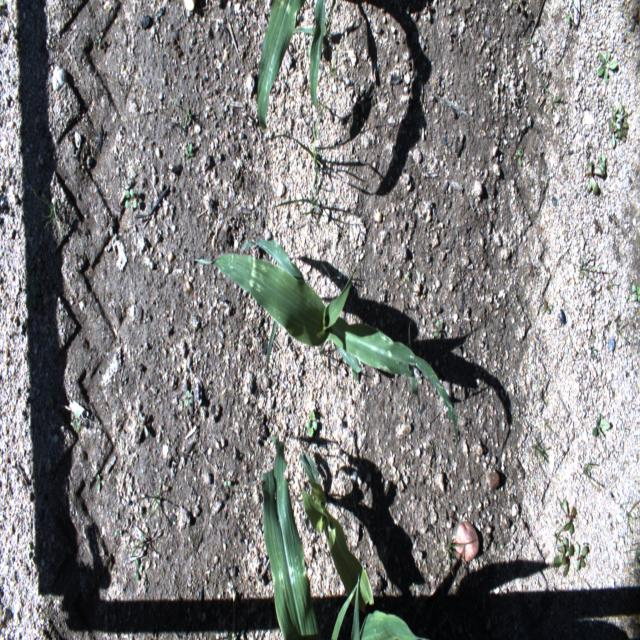crop: (194, 238, 459, 456), (260, 434, 322, 639), (298, 457, 373, 605), (256, 0, 305, 133), (331, 578, 428, 638), (300, 0, 330, 110)
weed: (274, 98, 327, 190), (31, 185, 70, 238), (276, 193, 352, 218), (440, 530, 468, 582), (137, 474, 164, 524), (536, 71, 562, 122), (323, 36, 344, 84), (552, 532, 574, 577), (596, 50, 617, 85), (172, 98, 192, 132), (584, 461, 606, 491), (622, 500, 636, 542), (563, 495, 577, 536), (578, 251, 598, 278), (586, 164, 603, 195), (533, 429, 547, 466), (592, 412, 610, 440), (616, 312, 630, 346), (133, 525, 150, 552), (322, 263, 344, 282), (306, 408, 319, 440), (606, 276, 621, 300), (575, 542, 587, 570), (617, 104, 630, 128), (124, 187, 138, 209), (134, 554, 145, 582), (72, 412, 86, 432), (95, 472, 107, 492), (184, 143, 195, 164), (630, 282, 640, 304), (608, 123, 616, 150), (184, 389, 194, 409), (597, 152, 607, 172), (95, 32, 103, 52), (516, 146, 523, 168), (433, 318, 440, 340), (611, 110, 619, 128), (617, 132, 628, 144), (543, 302, 554, 314), (404, 264, 410, 284), (565, 9, 572, 25), (221, 479, 232, 489)
